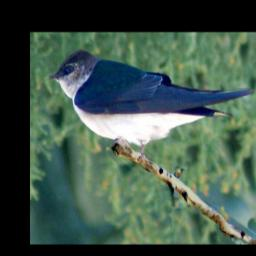Swallow: (46, 49, 255, 165)
